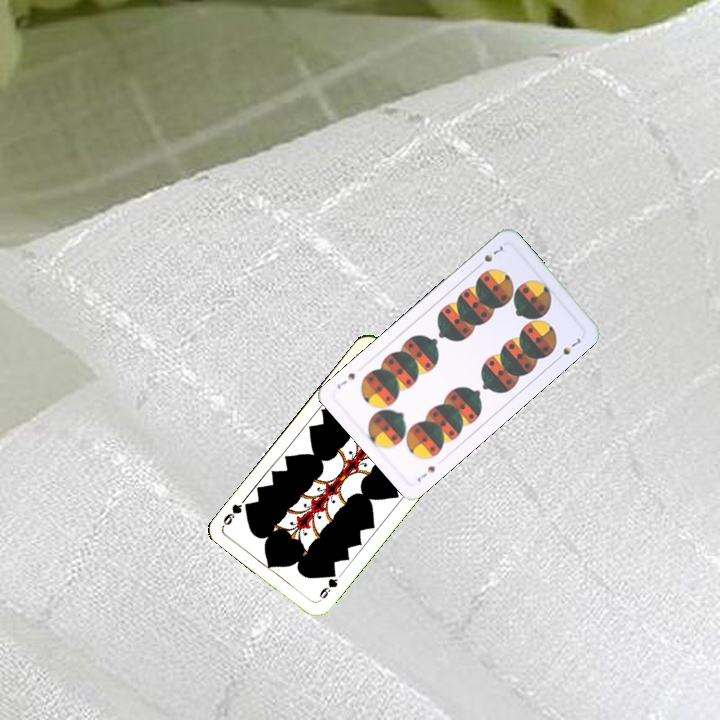G9: (314, 567, 340, 604)
S7: (473, 242, 505, 270), (413, 462, 438, 485)
